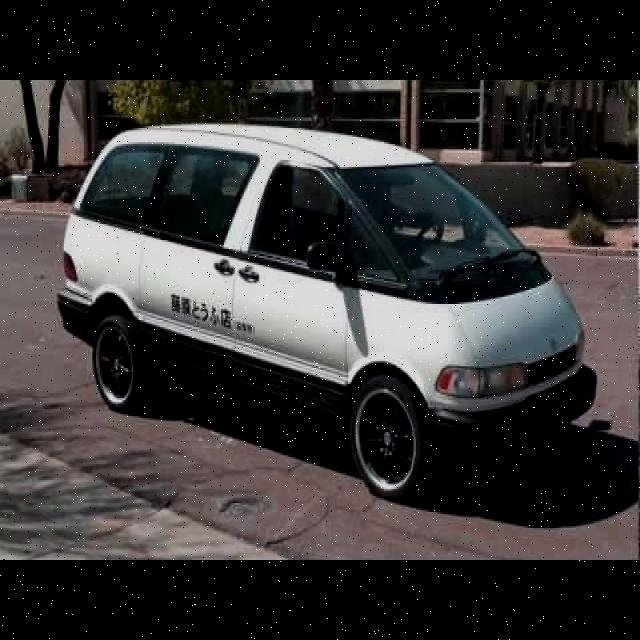Van: (63, 119, 621, 501)
